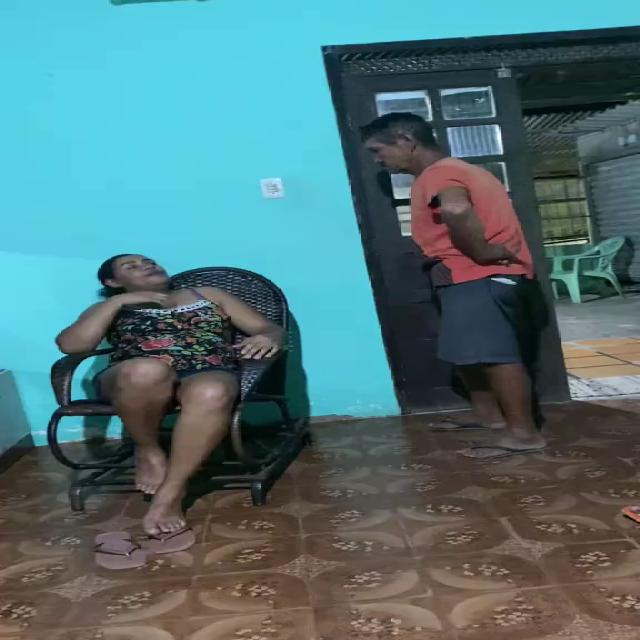em_pe: (360, 113, 546, 430)
sentado: (56, 254, 286, 538)
